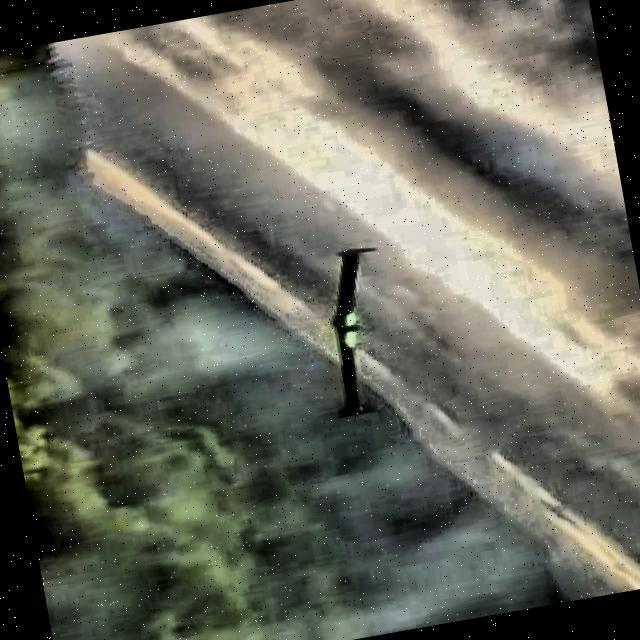iha: (332, 243, 379, 427)
